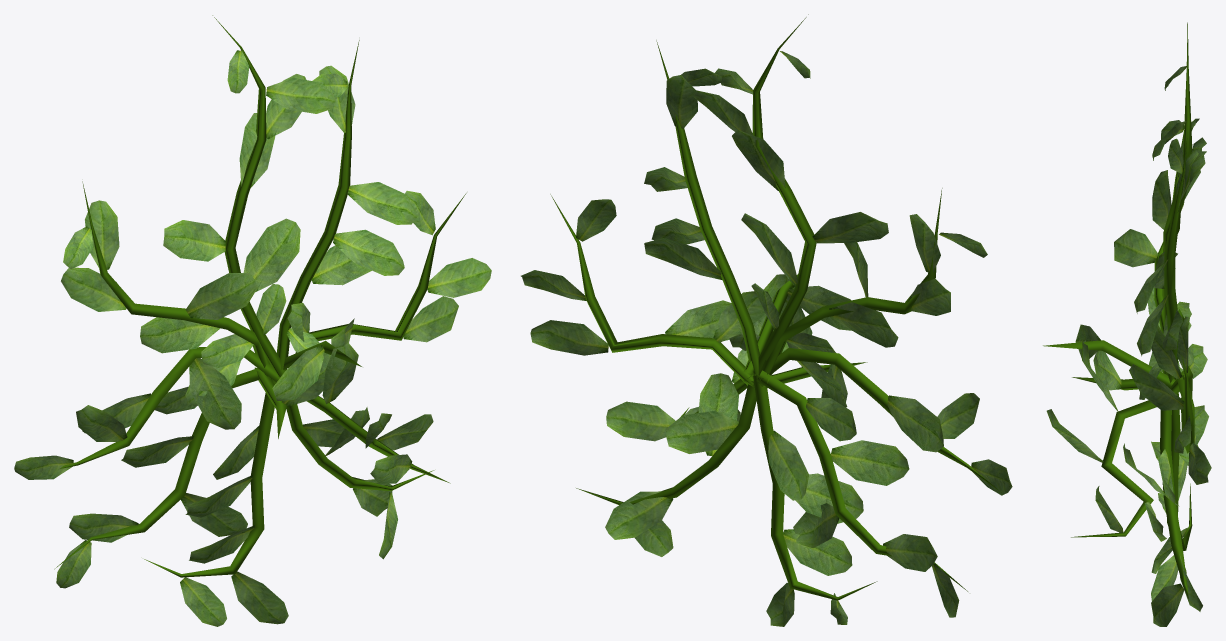
File: polygonum_01.obj
3 renders of one model, left to right at view 1: azimuth 30°, elevation 25°; view 2: azimuth 150°, elevation 25°; view 3: azimuth 270°, elevation 25°, orthographic. The views are drawn at different scales.
Visible parts, largest first — view 1: polygonum; view 2: polygonum; view 3: polygonum.
Part boxes in pixels (<box>): polygonum: <box>14,15,491,626</box>; polygonum: <box>521,14,1012,626</box>; polygonum: <box>1043,22,1211,626</box>.
Size of the model in its own units: 0.3206 by 0.3949 by 0.1055.
1 material, 1 textured.
